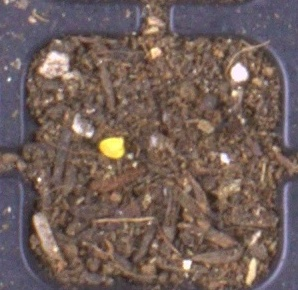chilli seed: (97, 135, 125, 159)
